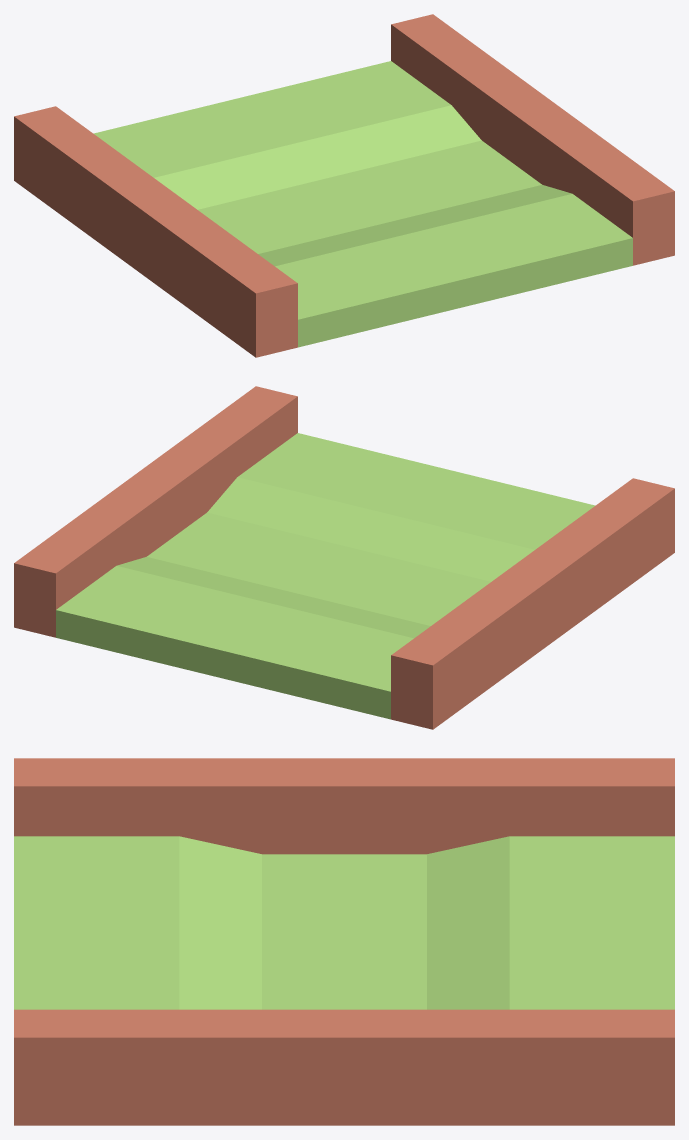
Rendered from Crest_01.glb.
3 renders of one model, top to bottom at view 1: azimuth 30°, elevation 25°; view 2: azimuth 150°, elevation 25°; view 3: azimuth 270°, elevation 25°, orthographic. The views are drawn at different scales.
Parts seen in each view (by area): view 1: Mesh1 Crest Model; view 2: Mesh1 Crest Model; view 3: Mesh1 Crest Model.
Part boxes in pixels (x1,y1,x2,y2): Mesh1 Crest Model: [14, 14, 674, 357]; Mesh1 Crest Model: [14, 386, 674, 729]; Mesh1 Crest Model: [14, 758, 674, 1125].
Size of the model in its own units: 3 by 0.44 by 3.
